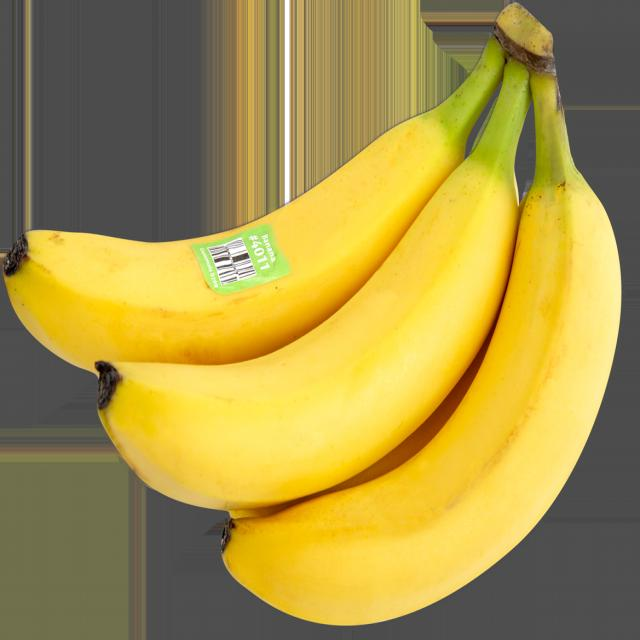banana: (0, 1, 620, 640)
